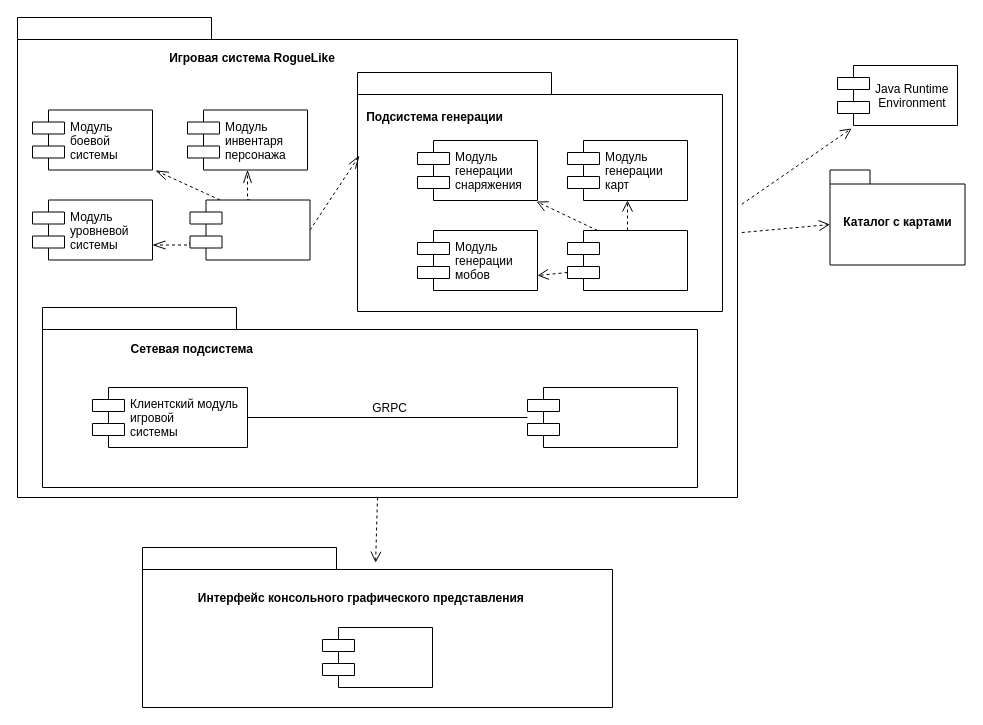
The diagram is 983 pixels wide and 725 high, and some of its shapes have lost their labels. The shapes that lost their labels are listed below. From the top down, each one's centre as x and y in pixels, then its label:
the point at 249,229: Модуль управления персонажем
the point at 627,260: Модуль генерации мира
the point at 602,417: Серверный модуль игровой системы
the point at 377,657: laterna-dev
